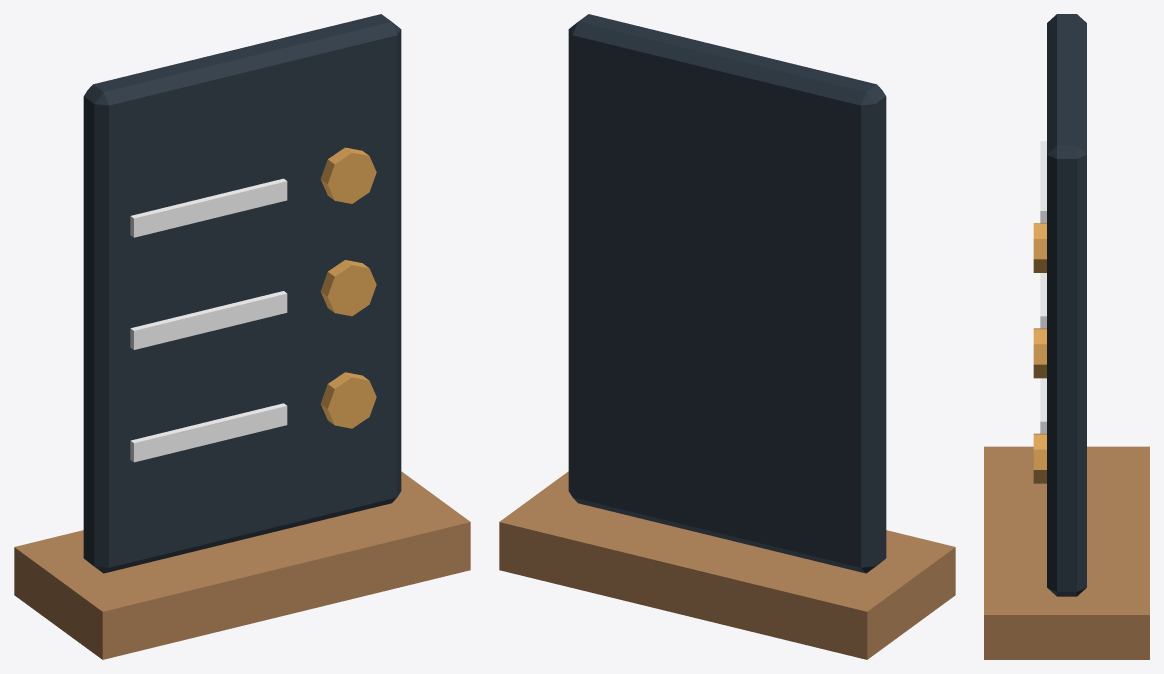
Rendered from menu_board.fbx.
3 views of the same model, side by side, from view 1: azimuth 30°, elevation 25°; view 2: azimuth 150°, elevation 25°; view 3: azimuth 270°, elevation 25° (orthographic). The views are drawn at different scales.
Visible parts, largest first — view 1: menu_board; view 2: menu_board; view 3: menu_board.
Boxes of the visible parts, bbox=[...] form: menu_board: bbox=[14, 14, 470, 659]; menu_board: bbox=[499, 14, 955, 659]; menu_board: bbox=[984, 14, 1149, 659].
Size of the model in its own units: 1.2 by 1.65 by 0.5.
